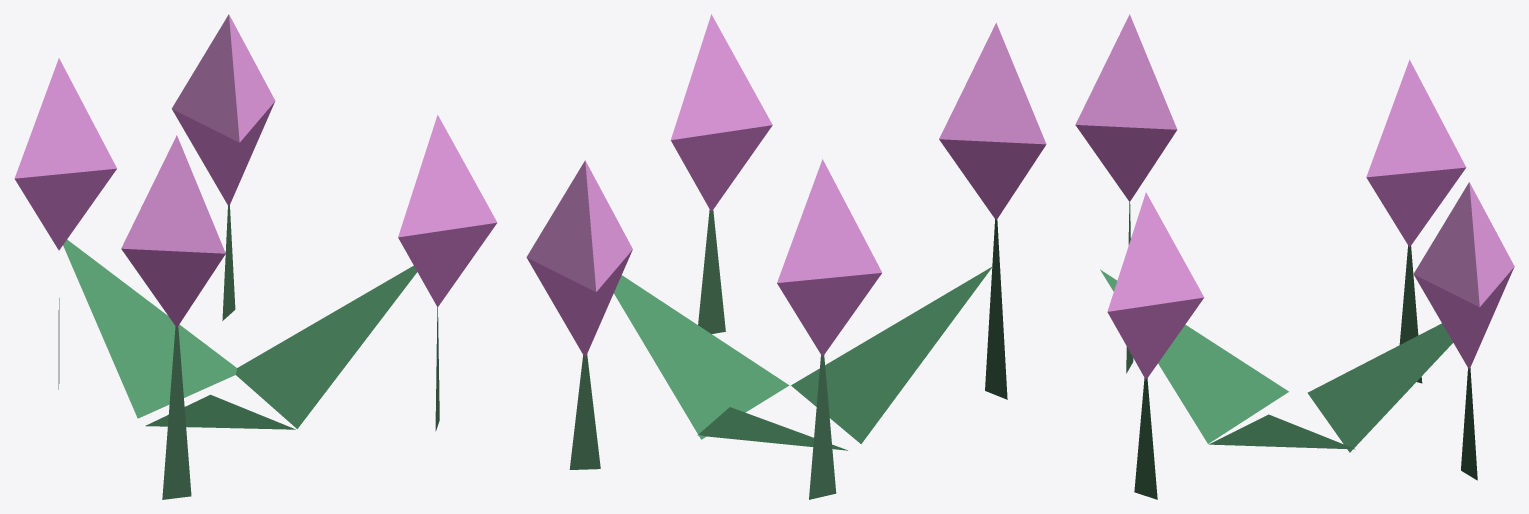
The model's file is plant_fireweed_a.obj.
3 views of the same model, side by side, from view 1: azimuth 30°, elevation 25°; view 2: azimuth 150°, elevation 25°; view 3: azimuth 270°, elevation 25° (orthographic). The views are drawn at different scales.
Visible parts, largest first — view 1: plant_fireweed_a_13, plant_fireweed_a_12, plant_fireweed_a_7, plant_fireweed_a_1, plant_fireweed_a_10, plant_fireweed_a_4, plant_fireweed_a_2, plant_fireweed_a_11, plant_fireweed_a_5, plant_fireweed_a_8, plant_fireweed_a_0, plant_fireweed_a_14 (+1 smaller); view 2: plant_fireweed_a_12, plant_fireweed_a_14, plant_fireweed_a_7, plant_fireweed_a_1, plant_fireweed_a_10, plant_fireweed_a_4, plant_fireweed_a_2, plant_fireweed_a_11, plant_fireweed_a_5, plant_fireweed_a_8, plant_fireweed_a_13, plant_fireweed_a_0 (+3 smaller); view 3: plant_fireweed_a_14, plant_fireweed_a_13, plant_fireweed_a_7, plant_fireweed_a_1, plant_fireweed_a_10, plant_fireweed_a_4, plant_fireweed_a_2, plant_fireweed_a_11, plant_fireweed_a_5, plant_fireweed_a_8, plant_fireweed_a_12, plant_fireweed_a_3 (+2 smaller).
Boxes of the visible parts, x1,y1,x2,y2 form: plant_fireweed_a_13: (63,239,236,418); plant_fireweed_a_12: (236,265,417,428); plant_fireweed_a_7: (171,14,275,142); plant_fireweed_a_1: (121,135,225,253); plant_fireweed_a_10: (14,58,116,178); plant_fireweed_a_4: (398,115,497,237); plant_fireweed_a_2: (121,248,225,327); plant_fireweed_a_11: (15,168,116,250); plant_fireweed_a_5: (398,223,496,306); plant_fireweed_a_8: (172,102,274,206); plant_fireweed_a_0: (162,326,191,499); plant_fireweed_a_14: (145,394,295,429); plant_fireweed_a_12: (614,275,789,439); plant_fireweed_a_14: (791,267,992,443); plant_fireweed_a_7: (526,160,632,291); plant_fireweed_a_1: (939,23,1046,144); plant_fireweed_a_10: (777,159,882,282); plant_fireweed_a_4: (671,14,772,140); plant_fireweed_a_2: (939,139,1046,220); plant_fireweed_a_11: (777,273,881,356); plant_fireweed_a_5: (671,125,772,211); plant_fireweed_a_8: (527,250,632,357); plant_fireweed_a_13: (697,407,847,450); plant_fireweed_a_0: (985,219,1007,399); plant_fireweed_a_14: (1100,269,1288,443); plant_fireweed_a_13: (1307,323,1453,452); plant_fireweed_a_7: (1413,182,1514,307); plant_fireweed_a_1: (1075,14,1177,129); plant_fireweed_a_10: (1366,59,1466,177); plant_fireweed_a_4: (1107,192,1204,311); plant_fireweed_a_2: (1075,125,1176,201); plant_fireweed_a_11: (1366,167,1465,247); plant_fireweed_a_5: (1107,297,1203,379); plant_fireweed_a_8: (1414,267,1514,369); plant_fireweed_a_12: (1209,414,1355,449); plant_fireweed_a_3: (1134,377,1157,499).
Size of the model in its own units: 1.43 by 1.32 by 1.48.
